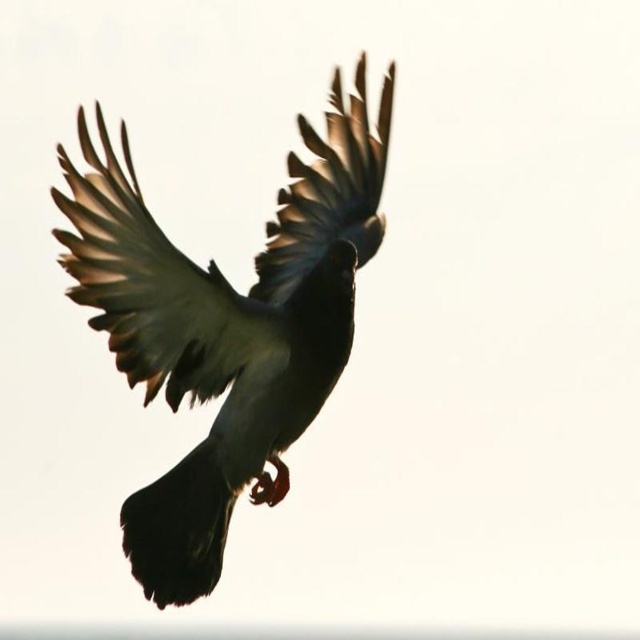Eagle: (46, 40, 406, 624)
